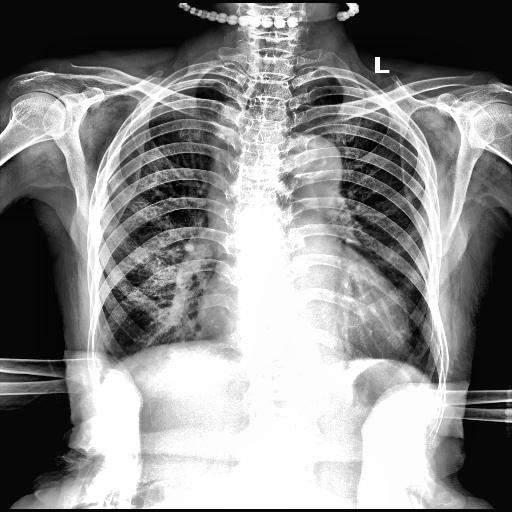0- Aortic enlargement: (270, 134, 342, 194), (278, 132, 342, 192), (288, 132, 342, 194)
3- Cardiomegaly: (200, 273, 412, 358), (198, 292, 410, 356), (196, 298, 409, 357)
7- Lung Opacity: (210, 90, 240, 183)
9- Other lesion: (210, 90, 240, 183)
